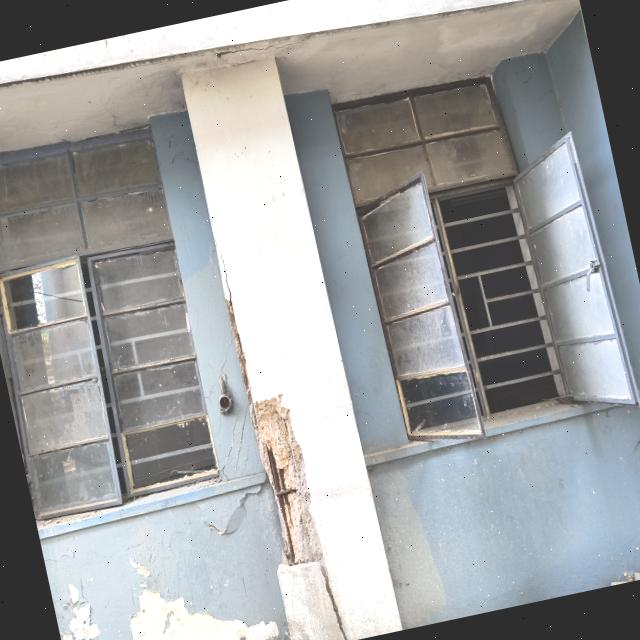crack: (219, 405, 249, 479), (213, 37, 307, 59), (320, 565, 347, 640), (213, 234, 232, 296)
peeling: (129, 590, 279, 640), (201, 486, 260, 534), (62, 584, 99, 640), (129, 558, 150, 577)
spalling: (226, 287, 322, 565)
